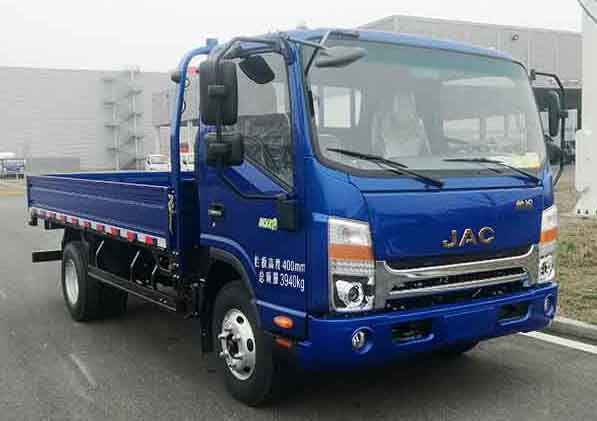smalltruck: (25, 23, 559, 401)
